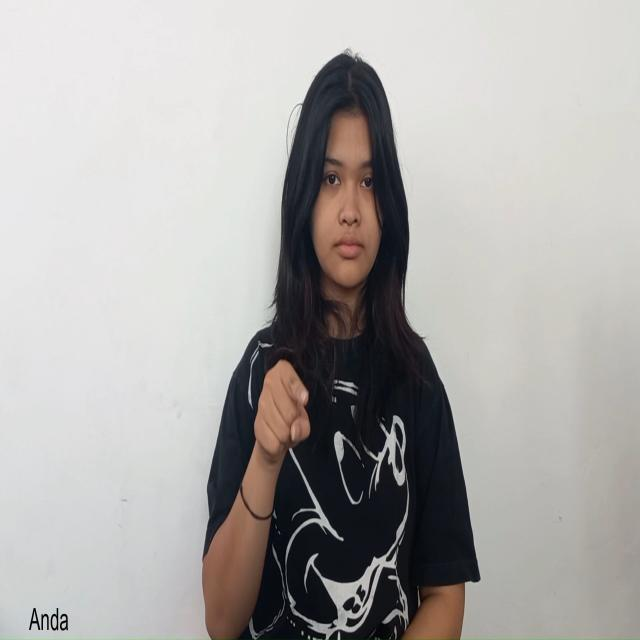Anda -BISINDO-: (251, 354, 313, 474)
